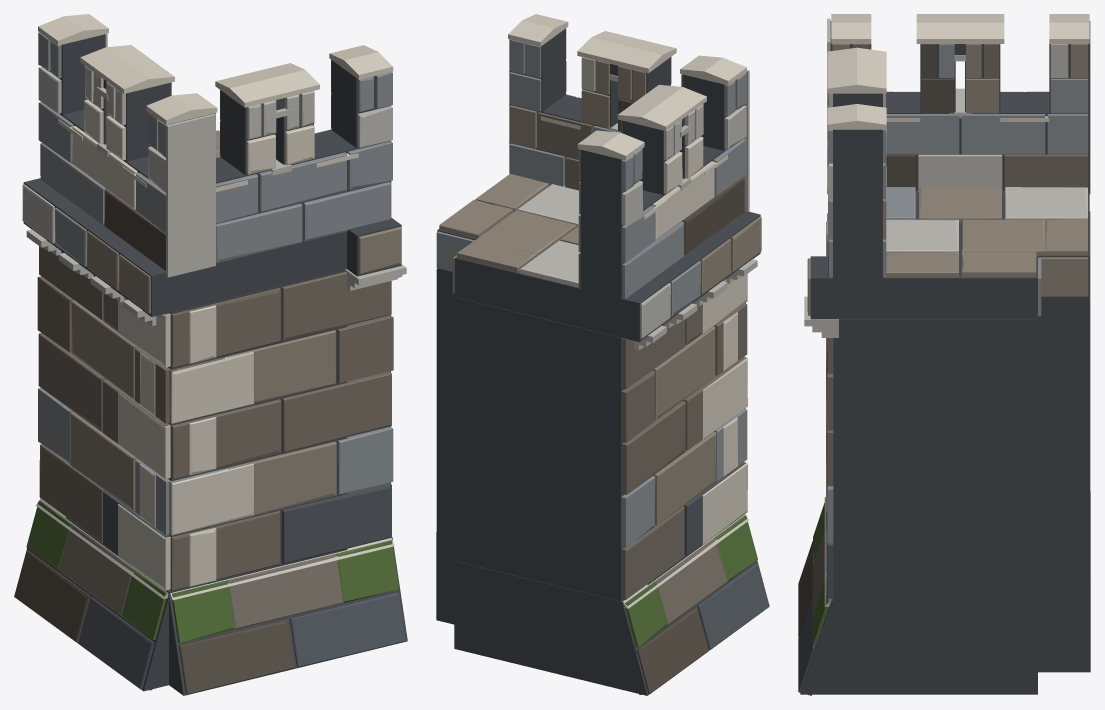
File: mdvl_castle_curtain_corner_01.glb
The picture shows the model from 3 angles, left to right: view 1: azimuth 30°, elevation 25°; view 2: azimuth 150°, elevation 25°; view 3: azimuth 270°, elevation 25°; orthographic projection. The views are drawn at different scales.
Parts seen in each view (by area): view 1: mdvl_castle_curtain_corner_01; view 2: mdvl_castle_curtain_corner_01; view 3: mdvl_castle_curtain_corner_01.
Part boxes in pixels (x1,y1,x2,y2): mdvl_castle_curtain_corner_01: (14,14,407,695); mdvl_castle_curtain_corner_01: (436,14,769,695); mdvl_castle_curtain_corner_01: (798,14,1090,695).
Bounding box in the file's own units: 2.27 × 4.92 × 2.27.
Materials: 1 (1 with a texture image).
